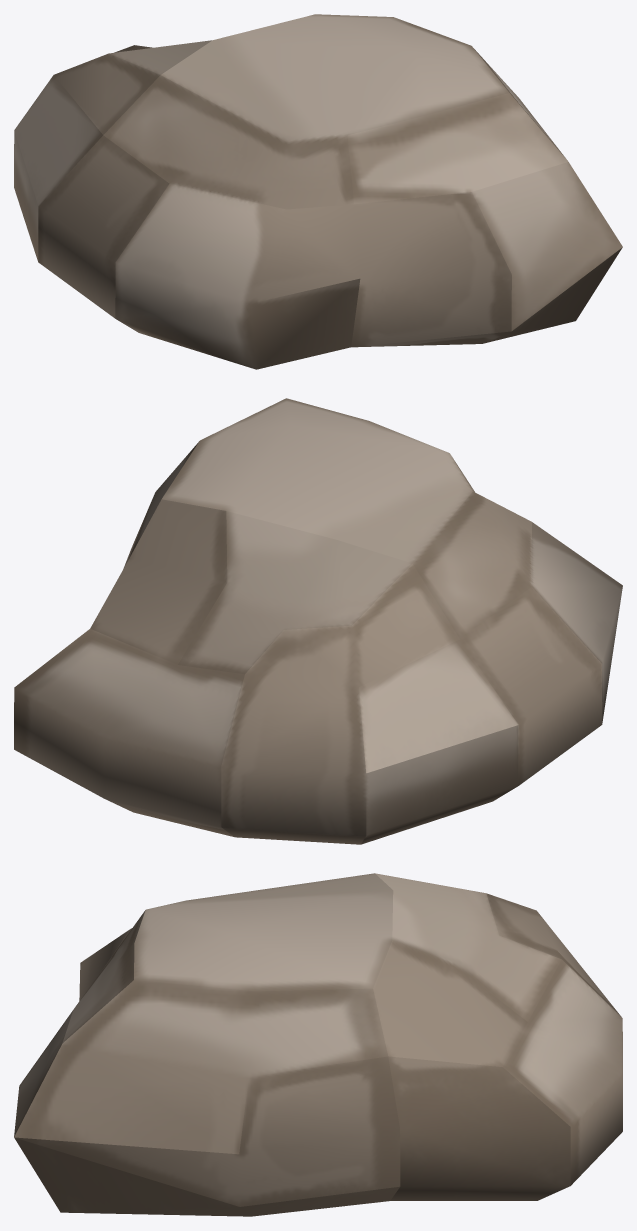
File: M_Stone big.fbx
The picture shows the model from 3 angles, top to bottom: view 1: azimuth 30°, elevation 25°; view 2: azimuth 150°, elevation 25°; view 3: azimuth 270°, elevation 25°; orthographic projection. The views are drawn at different scales.
Visible parts, largest first — view 1: M_Stone big; view 2: M_Stone big; view 3: M_Stone big.
Part boxes in pixels (x1,y1,x2,y2): M_Stone big: (14, 14, 622, 369); M_Stone big: (14, 398, 622, 844); M_Stone big: (14, 873, 622, 1216).
Bounding box in the file's own units: 1.01 × 0.8615 × 0.4361.
Materials: 1 (1 with a texture image).
